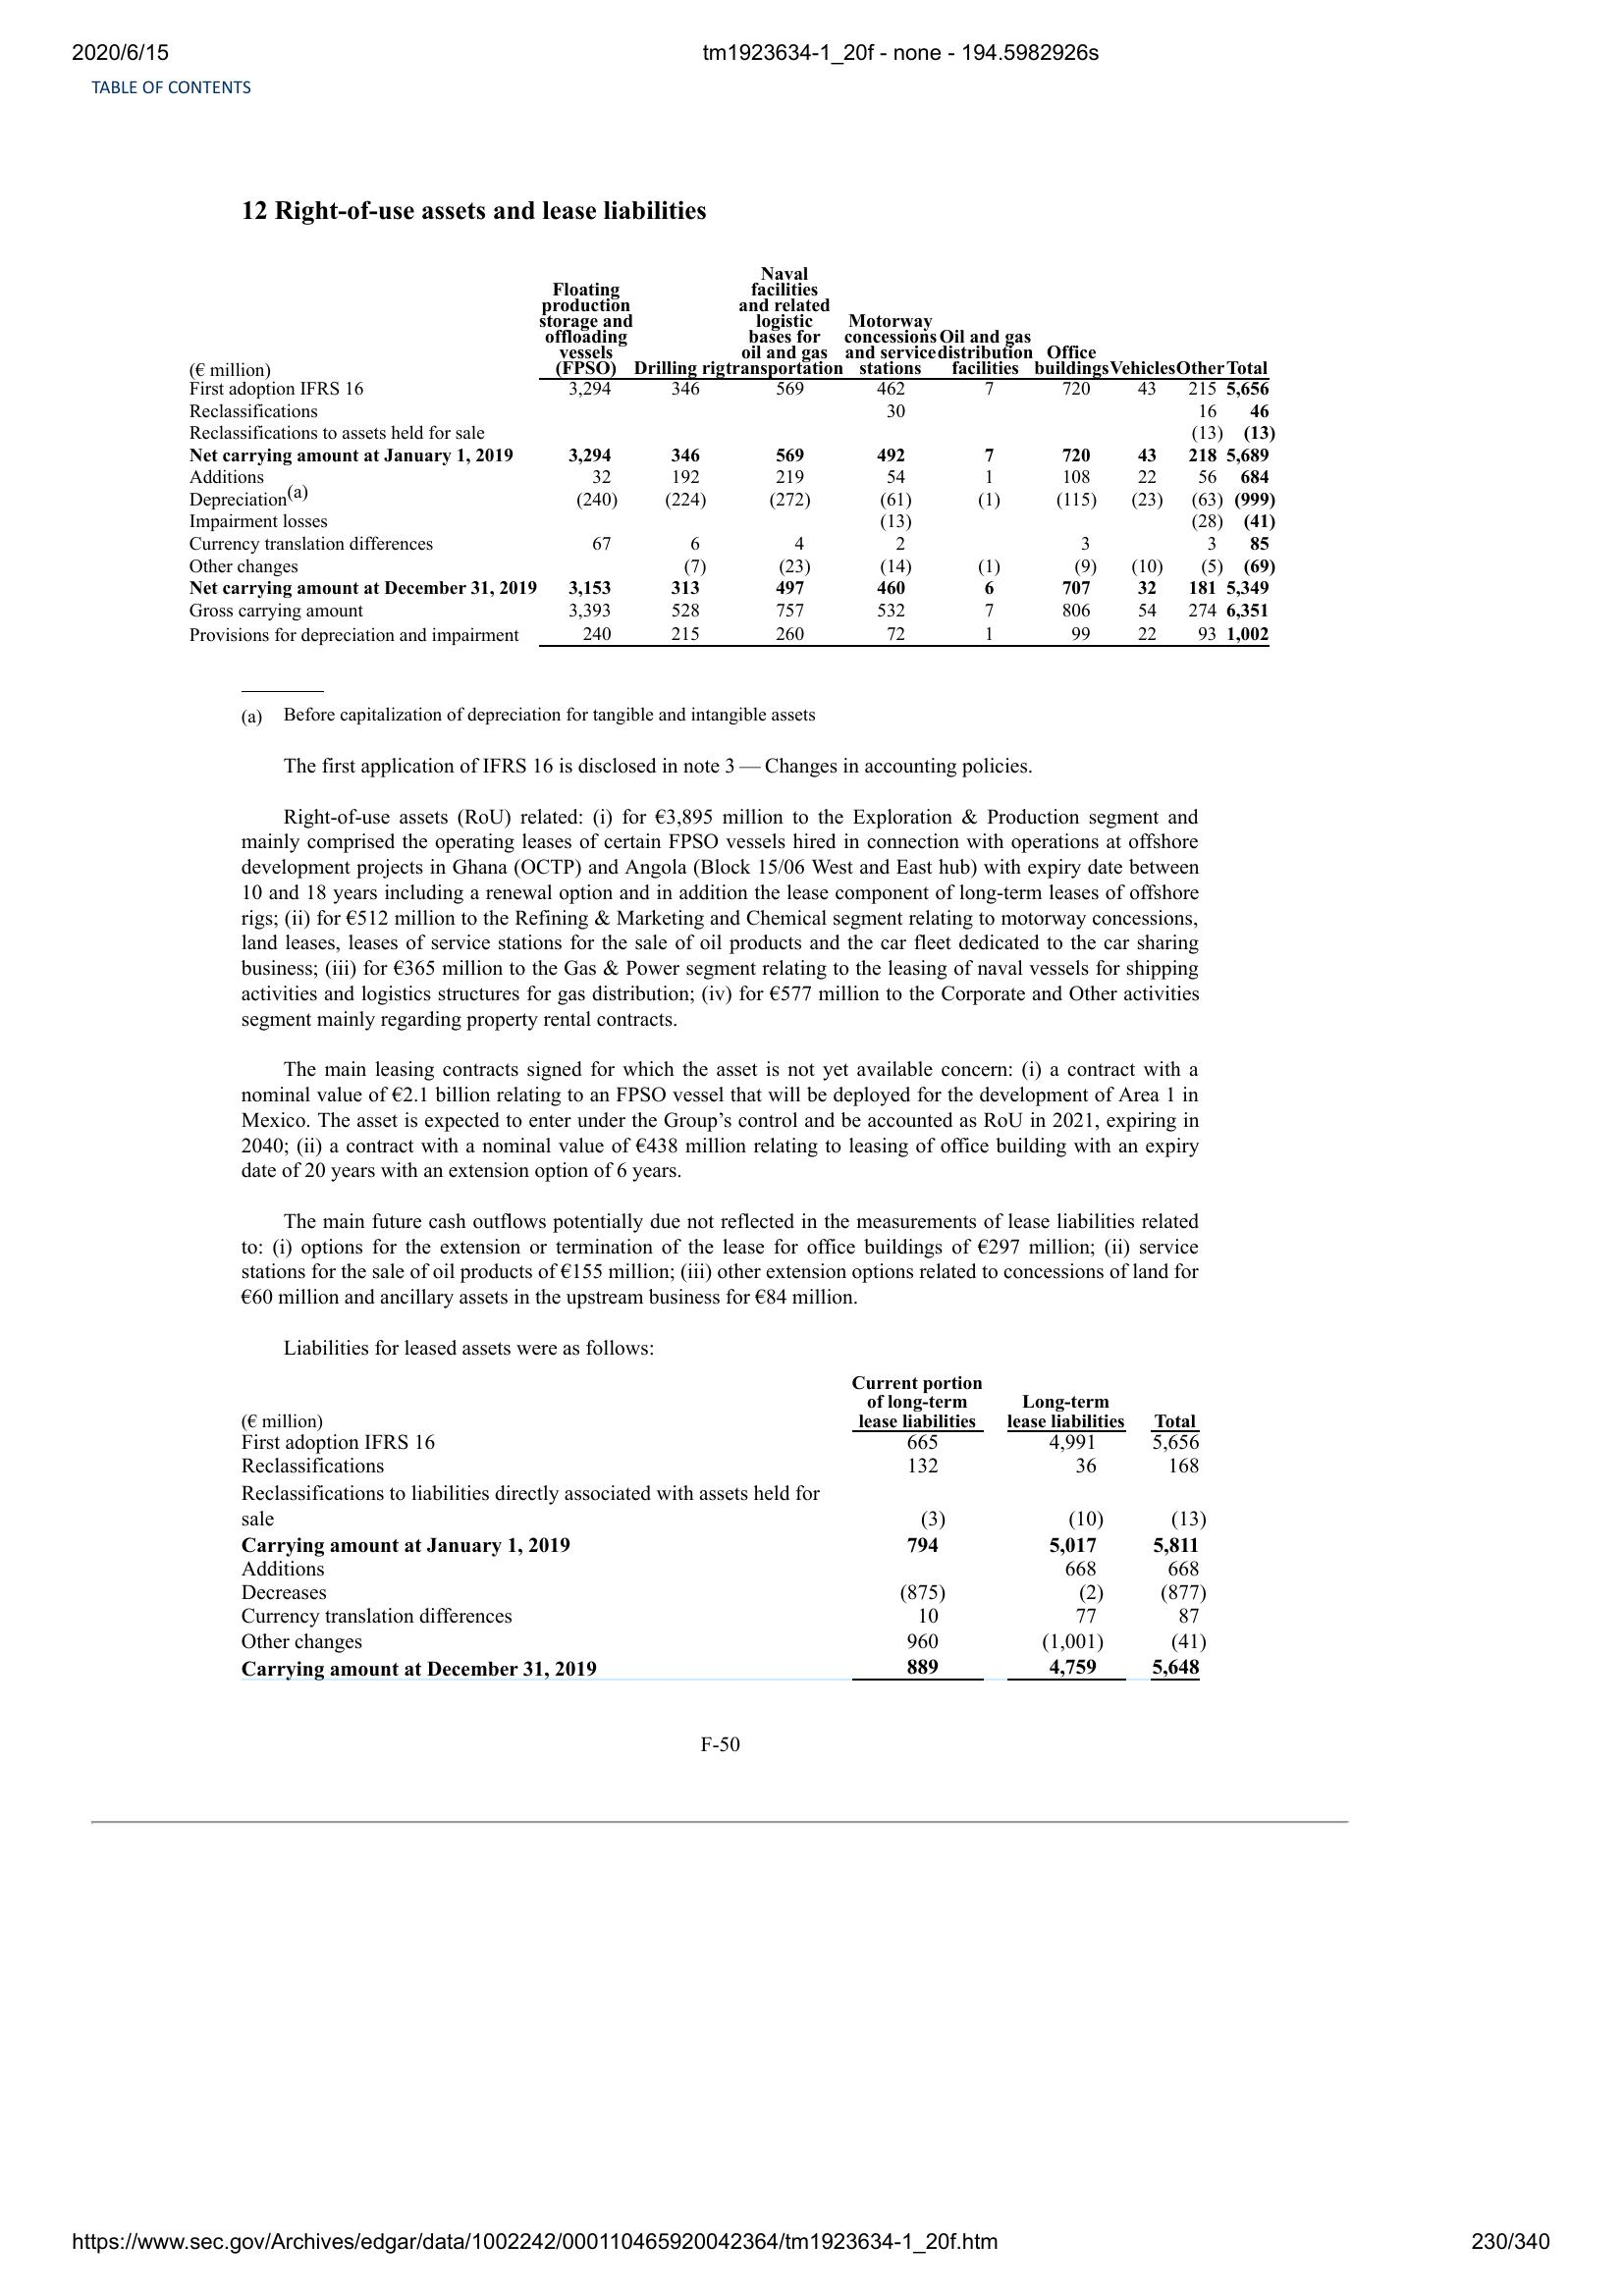table: (179, 260, 1280, 651), (234, 1371, 1212, 1682)
